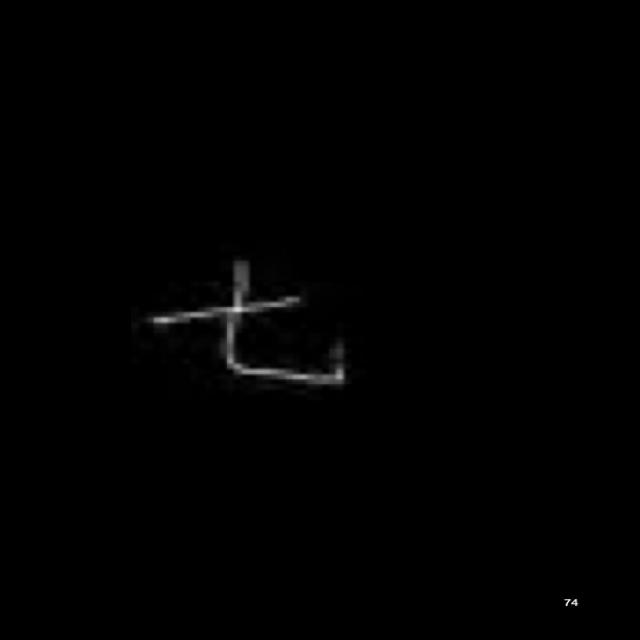7 -seven-: (135, 255, 358, 399)
